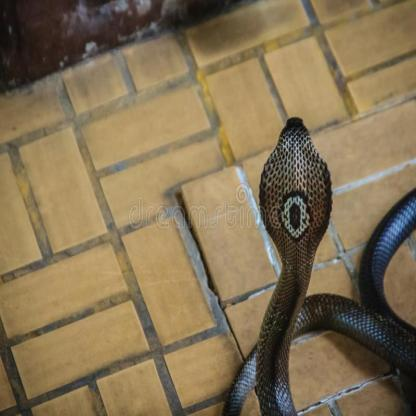Snake: (228, 109, 416, 416)
